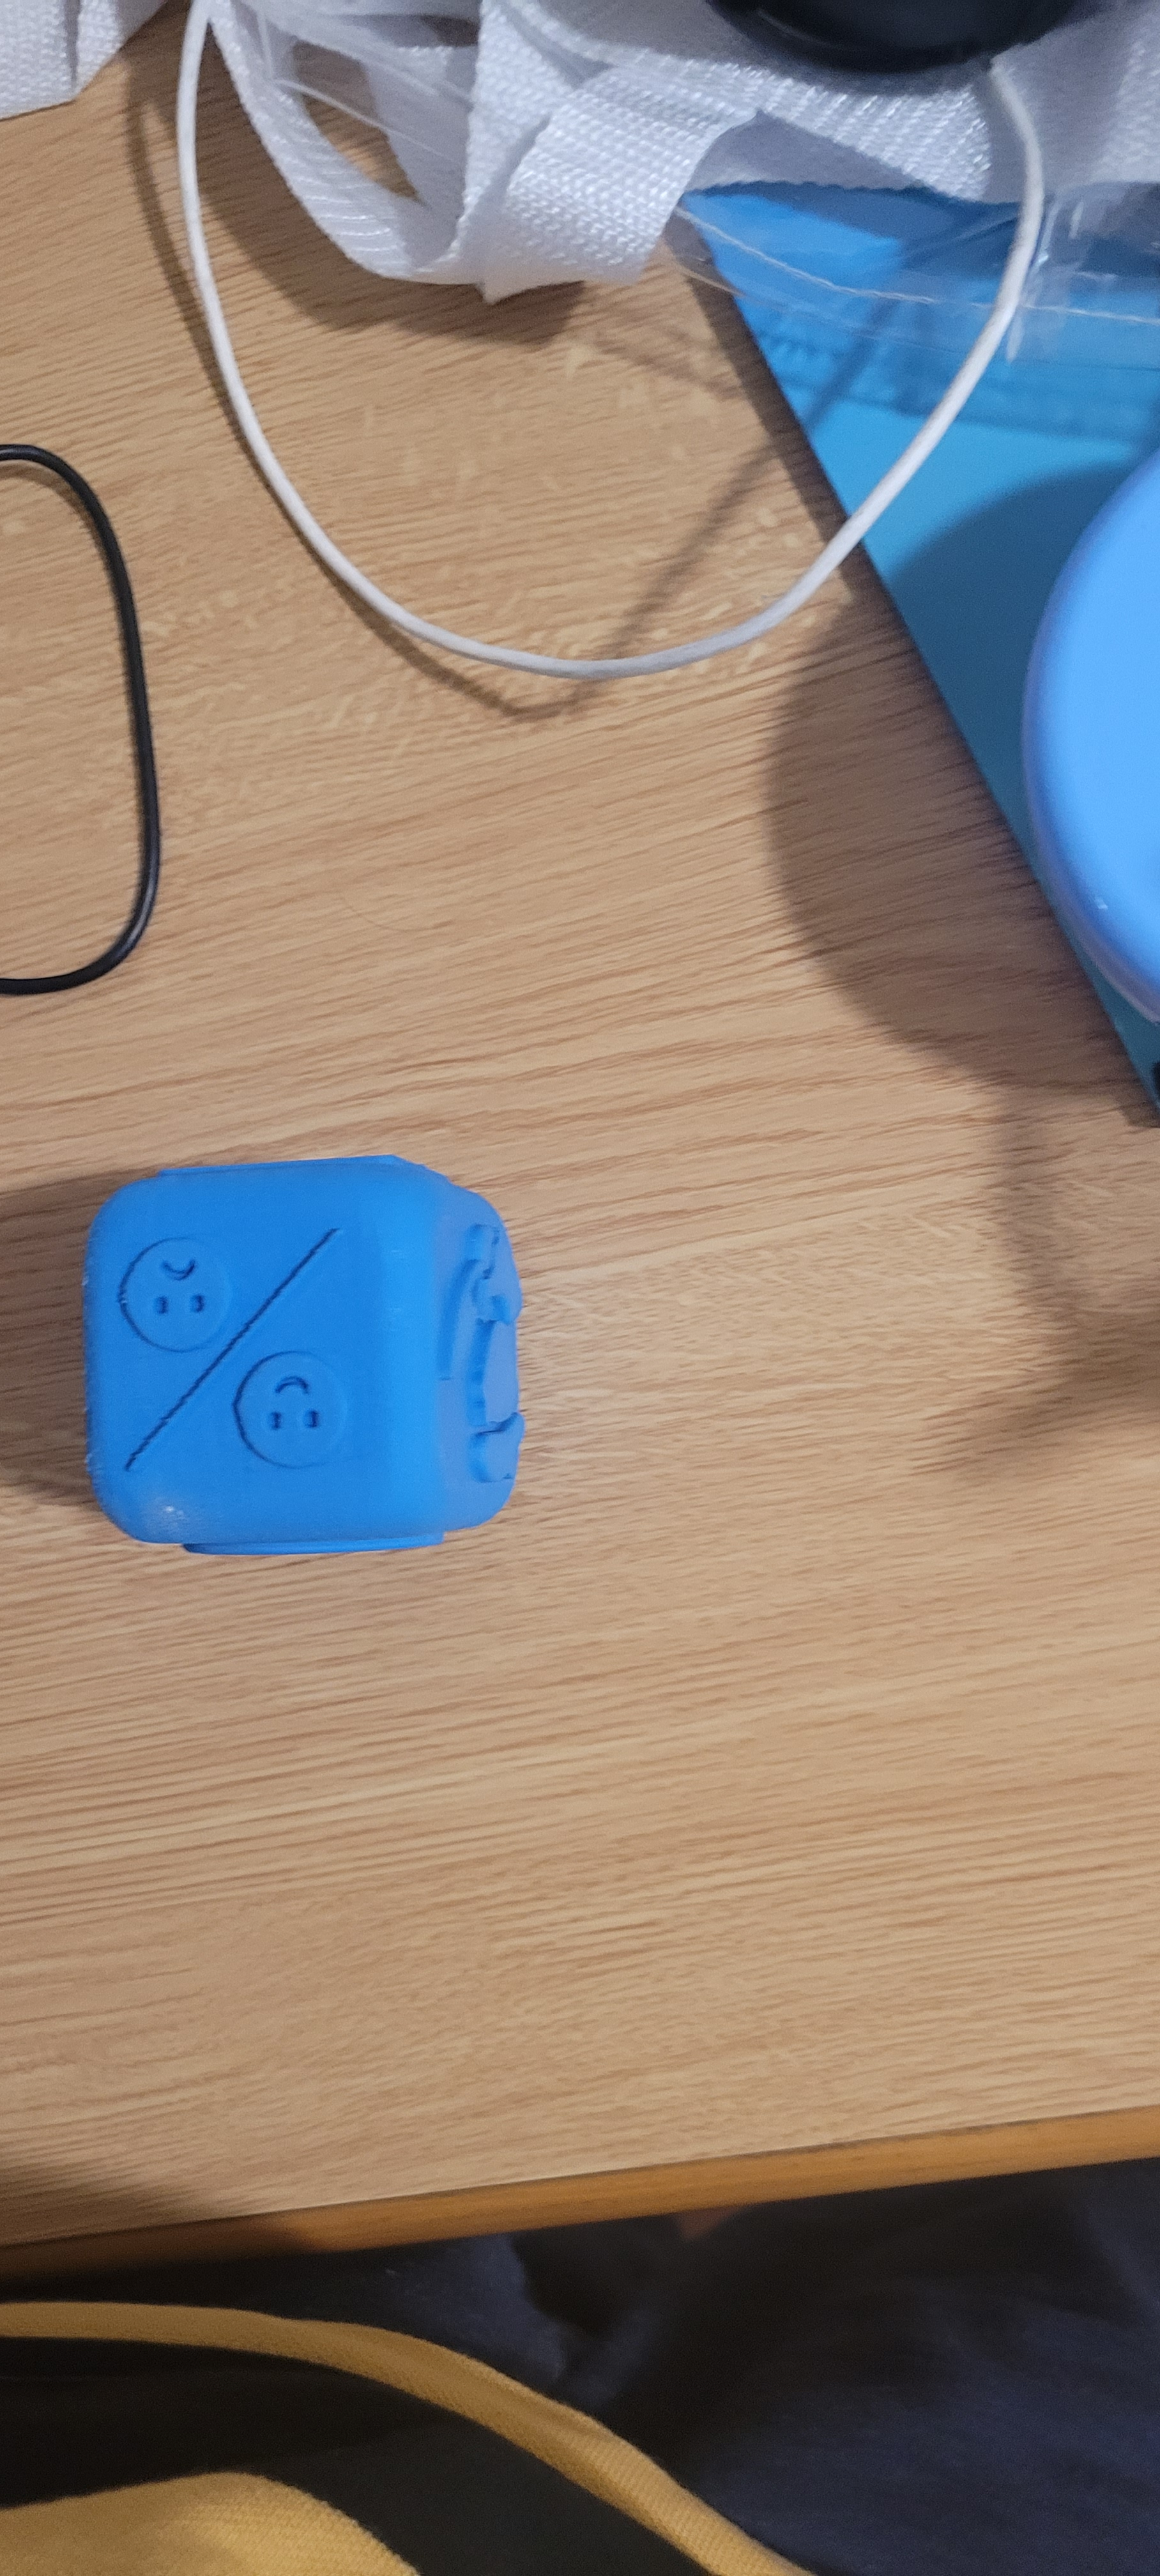Like/Dislike: (105, 1170, 419, 1543)
